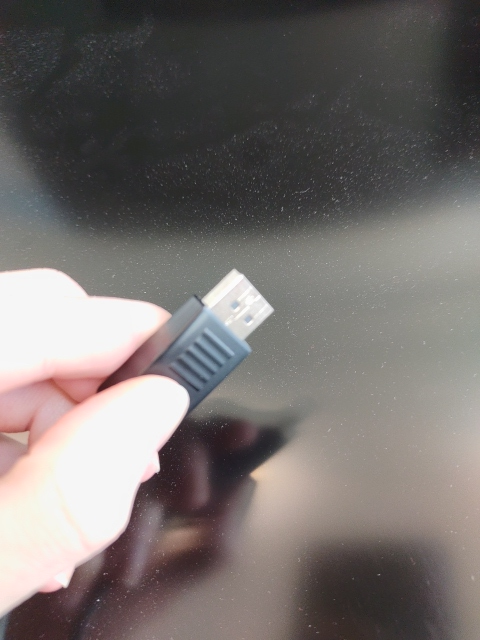DisplayPort: (183, 268, 276, 354)
